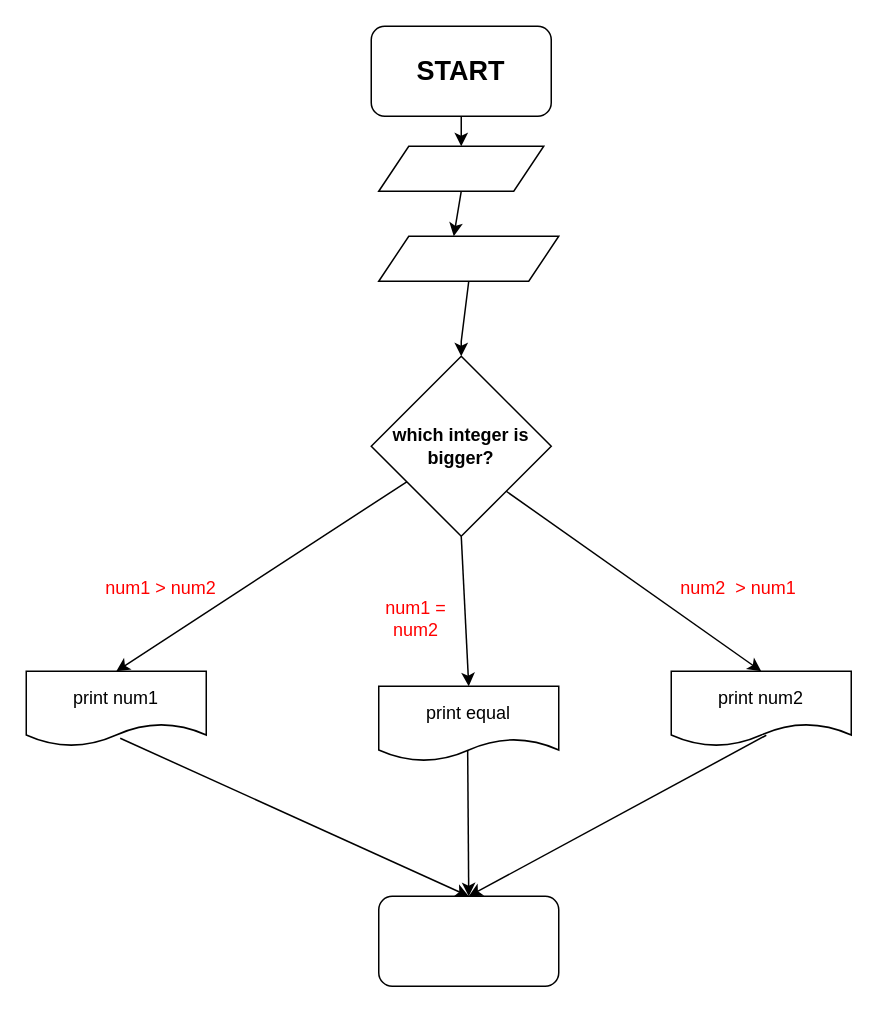
This 878x1013 diagram has some shape labels left out. The box of each missing label's shape, as (x1, y1, x2, y2) in pixels:
END: (377, 895, 559, 986)
get num1: (377, 145, 544, 191)
get num2: (377, 235, 559, 281)
